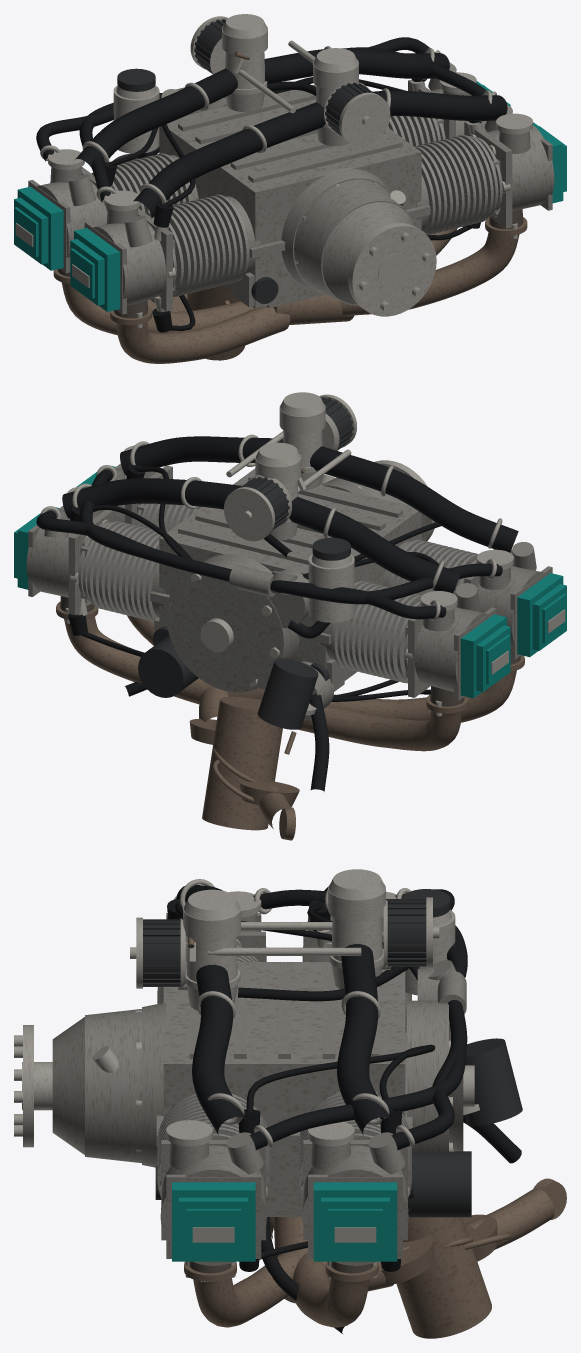
Rendered from rotax-style-912-boxer-uav-engine.glb.
The picture shows the model from 3 angles, top to bottom: view 1: azimuth 30°, elevation 25°; view 2: azimuth 150°, elevation 25°; view 3: azimuth 270°, elevation 25°; orthographic projection. The views are drawn at different scales.
Parts seen in each view (by area): view 1: intake_socket (×4), cylinder_fin (×23), crankcase_body, exhaust_header (×3), cylinder_head (×3), prop_flange, gearbox_housing, rocker_cover (×3), case_rib (×4), gearbox_nose, coolant_hose (×4), head_deck_flange (×2) (+24 smaller); view 2: intake_socket (×4), exhaust_header (×3), crankcase_body, coolant_hose (×4), generator_cover_dome, silencer_body, cylinder_head (×3), rocker_cover (×3), oil_filter, generator_cover, starter_motor, case_rib (×2) (+22 smaller); view 3: crankcase_body, intake_socket (×2), gearbox_housing, silencer_body, exhaust_header (×2), coolant_hose (×3), rocker_cover (×2), generator_cover, cylinder_head (×2), starter_motor, gearbox_nose, rocker_cover_crown (×2) (+32 smaller).
Part boxes in pixels (x1=…): intake_socket (×4): x1=75, y1=48, x2=507, y2=218; cylinder_fin (×23): x1=148, y1=135, x2=493, y2=296; crankcase_body: x1=159, y1=84, x2=421, y2=308; exhaust_header (×3): x1=61, y1=232, x2=519, y2=363; cylinder_head (×3): x1=37, y1=125, x2=554, y2=305; prop_flange: x1=348, y1=223, x2=436, y2=316; gearbox_housing: x1=294, y1=179, x2=416, y2=305; rocker_cover (×3): x1=17, y1=122, x2=563, y2=311; case_rib (×4): x1=178, y1=92, x2=402, y2=182; gearbox_nose: x1=322, y1=202, x2=414, y2=304; coolant_hose (×4): x1=36, y1=37, x2=486, y2=202; head_deck_flange (×2): x1=138, y1=121, x2=512, y2=311; intake_socket (×4): x1=62, y1=436, x2=518, y2=593; exhaust_header (×3): x1=64, y1=617, x2=516, y2=751; crankcase_body: x1=159, y1=468, x2=421, y2=680; coolant_hose (×4): x1=36, y1=469, x2=502, y2=619; generator_cover_dome: x1=168, y1=579, x2=270, y2=688; silencer_body: x1=202, y1=696, x2=282, y2=830; cylinder_head (×3): x1=26, y1=509, x2=543, y2=691; rocker_cover (×3): x1=17, y1=507, x2=563, y2=698; oil_filter: x1=257, y1=658, x2=318, y2=729; generator_cover: x1=166, y1=554, x2=299, y2=692; starter_motor: x1=138, y1=635, x2=198, y2=697; case_rib (×2): x1=178, y1=473, x2=402, y2=564; crankcase_body: x1=163, y1=962, x2=405, y2=1209; intake_socket (×2): x1=192, y1=944, x2=391, y2=1135; gearbox_housing: x1=85, y1=1009, x2=141, y2=1163; silencer_body: x1=396, y1=1217, x2=491, y2=1338; exhaust_header (×2): x1=193, y1=1252, x2=369, y2=1327; coolant_hose (×3): x1=249, y1=889, x2=467, y2=1150; rocker_cover (×2): x1=172, y1=1182, x2=397, y2=1261; generator_cover: x1=407, y1=1000, x2=448, y2=1152; cylinder_head (×2): x1=160, y1=1145, x2=408, y2=1265; starter_motor: x1=408, y1=1151, x2=471, y2=1217; gearbox_nose: x1=52, y1=1017, x2=84, y2=1154; rocker_cover_crown (×2): x1=179, y1=1197, x2=389, y2=1258.
Size of the model in its own units: 0.86 by 0.6111 by 0.6865.
9 materials, 5 textured.
